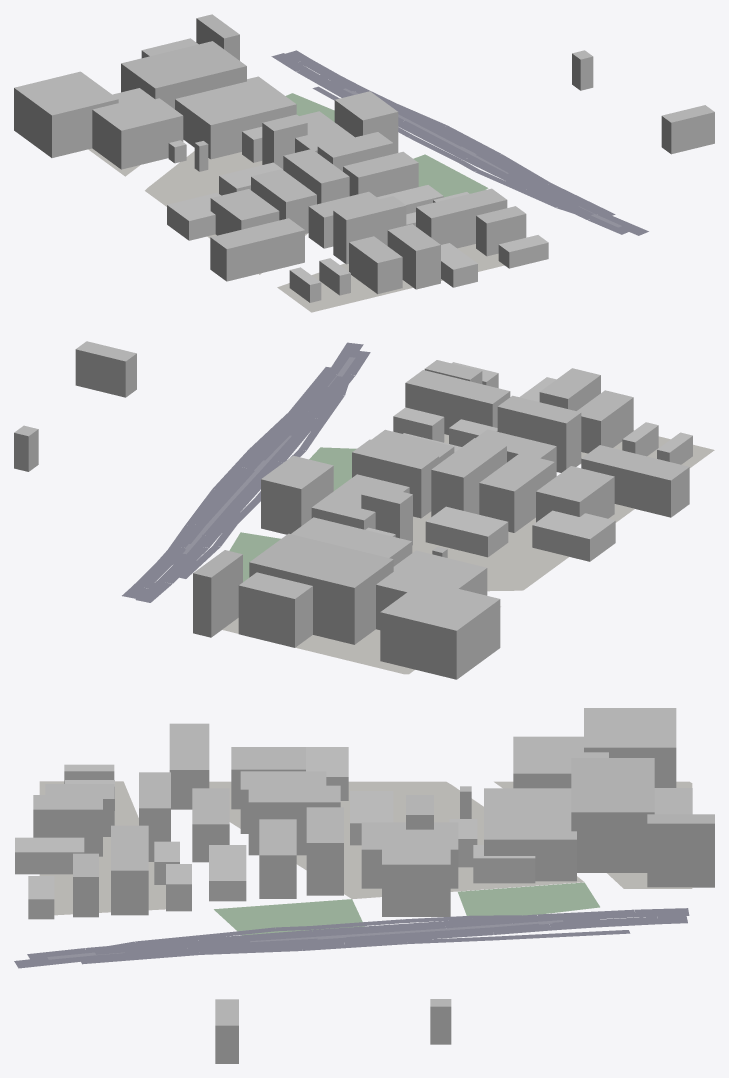
Rendered from 122_113_mid.glb.
The picture shows the model from 3 angles, top to bottom: view 1: azimuth 30°, elevation 25°; view 2: azimuth 150°, elevation 25°; view 3: azimuth 270°, elevation 25°; orthographic projection. The views are drawn at different scales.
Bounding box in the file's own units: 552 × 54.13 × 537.
